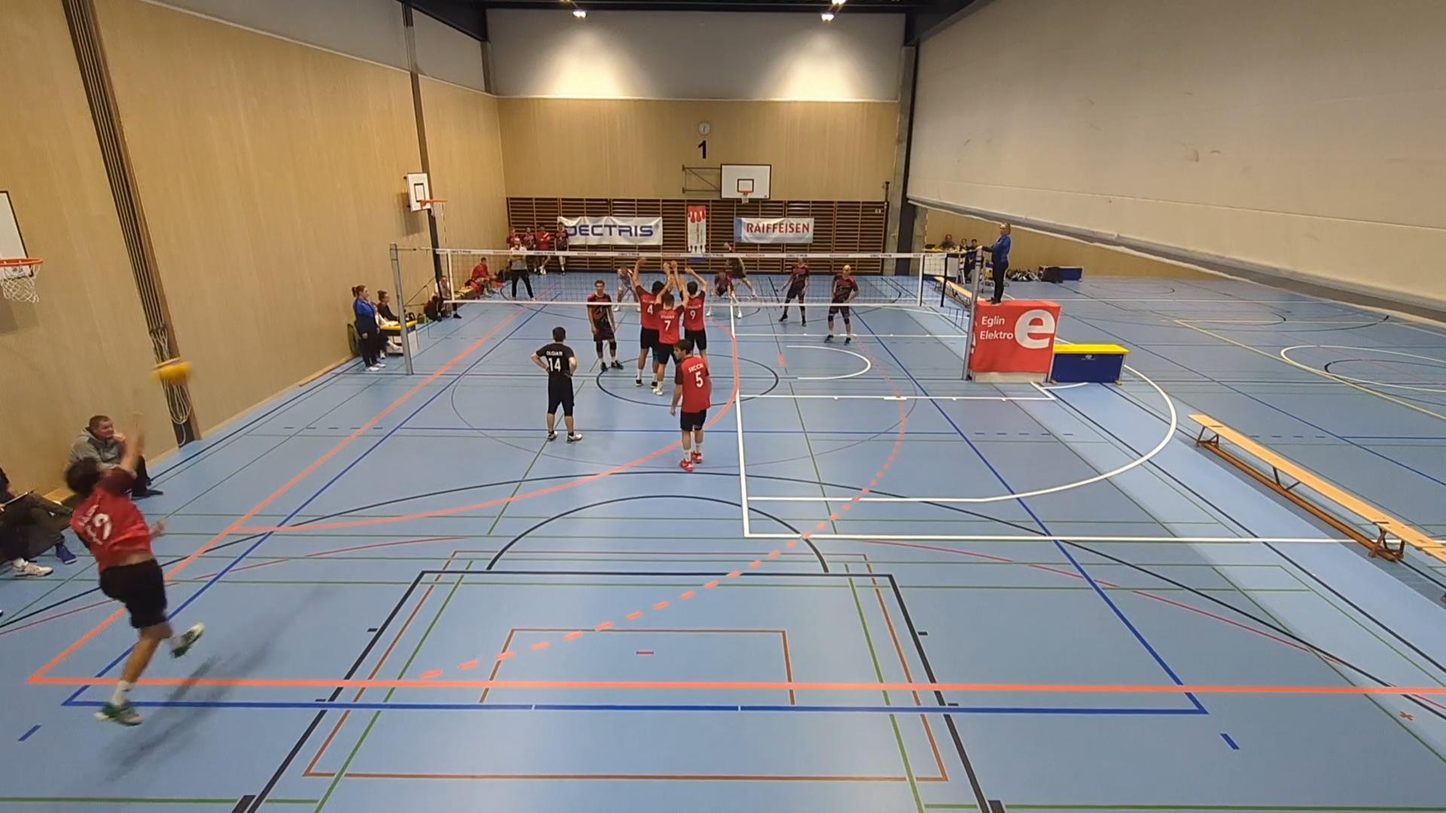Player: (531, 327, 582, 442), (670, 340, 711, 471), (631, 257, 667, 386), (652, 261, 685, 395), (587, 279, 622, 368), (825, 264, 859, 343), (682, 264, 706, 358), (779, 261, 809, 325), (728, 257, 755, 296), (613, 265, 632, 310), (714, 265, 735, 300)
Serve: (55, 405, 202, 727)
ball: (159, 358, 189, 380)
